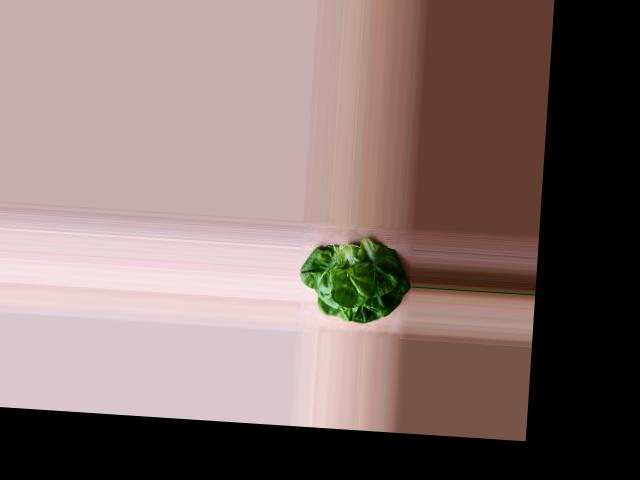lettuce: (300, 237, 411, 326)
